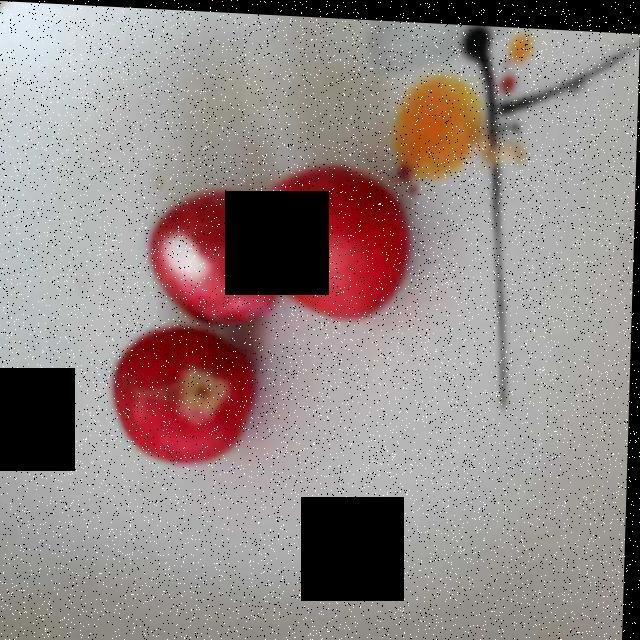radish: (116, 130, 419, 473)
